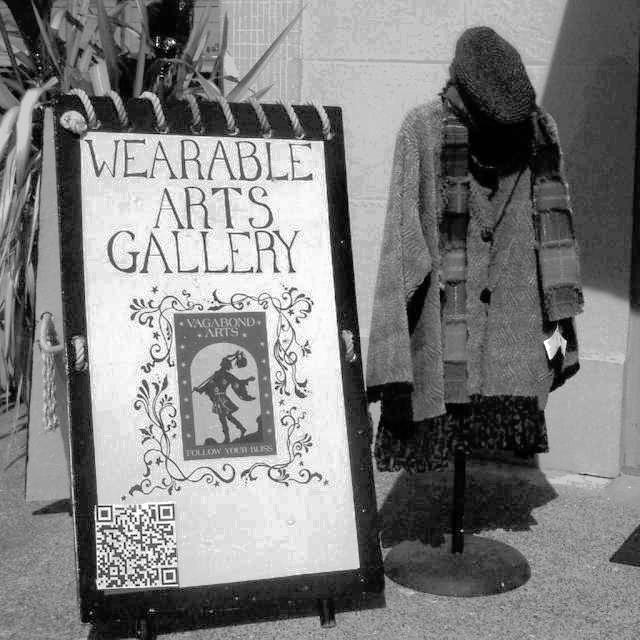qr_code: (97, 504, 178, 587)
